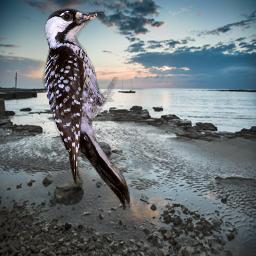Woodpecker: (42, 8, 130, 210)
